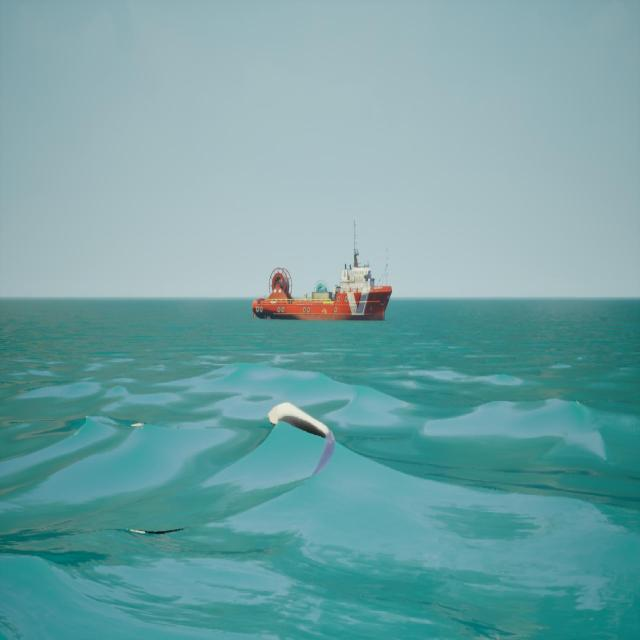tug boat: (253, 219, 395, 324)
